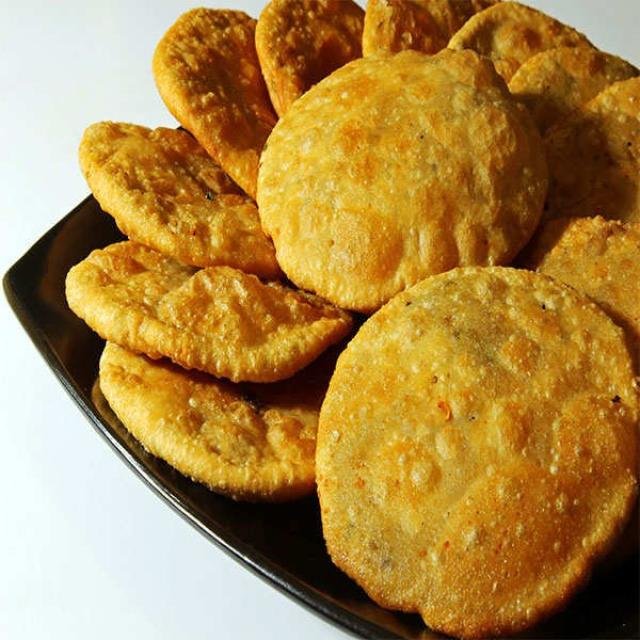puri: (56, 18, 635, 604)
